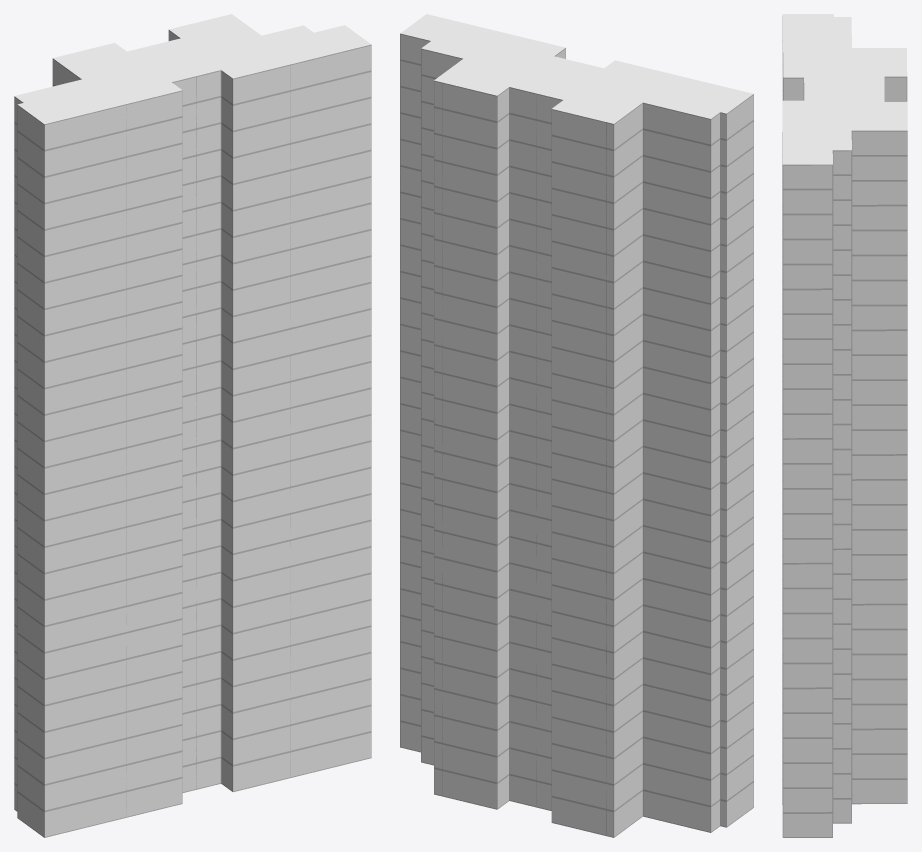
3 renders of one model, left to right at view 1: azimuth 30°, elevation 25°; view 2: azimuth 150°, elevation 25°; view 3: azimuth 270°, elevation 25°, orthographic. The views are drawn at different scales.
Visible parts, largest first — view 1: Building_1, Building_3, Building_4, Building_2, Building_6, Building, Building_5; view 2: Building_1, Building_3, Building_2, Building_4, Building_6, Building, Building_5; view 3: Building_4, Building_6, Building_2.
Boxes of the visible parts, x1,y1,x2,y2 form: Building_1: (14, 58, 125, 837); Building_3: (168, 30, 289, 792); Building_4: (290, 44, 371, 777); Building_2: (126, 76, 196, 817); Building_6: (14, 14, 371, 124); Building: (126, 65, 290, 817); Building_5: (126, 88, 290, 815); Building_1: (607, 94, 753, 837); Building_3: (442, 48, 565, 809); Building_2: (536, 94, 606, 835); Building_4: (400, 33, 462, 796); Building_6: (400, 14, 753, 123); Building: (442, 83, 606, 836); Building_5: (442, 95, 606, 834); Building_4: (782, 130, 907, 837); Building_6: (782, 14, 907, 164); Building_2: (783, 53, 907, 101).
Size of the model in its own units: 38.86 by 81.01 by 13.69.
1 material, 1 textured.
